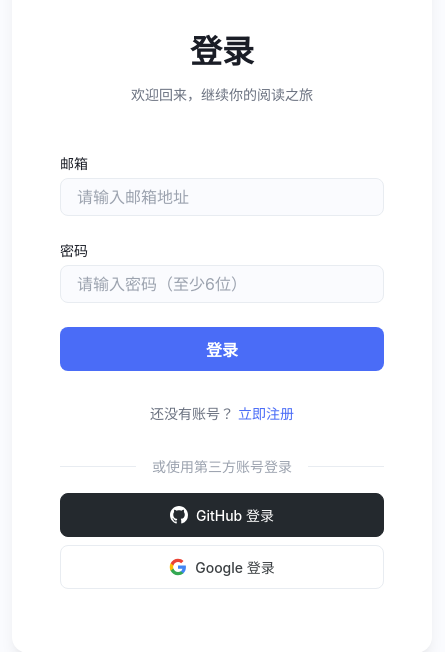
Test case: LoginPage › toggles to register form
The width and height of the screenshot is (445, 652).
Click the button with class "toggle-btn" at point(266, 412), box x1=238 y1=402 x2=294 y2=422
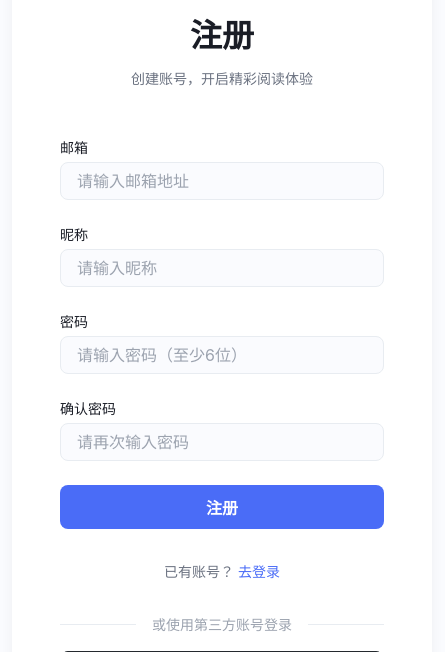
Check: the heading with class "login-title" reads "注册", box x1=190 y1=16 x2=254 y2=55
Check: the field with id "nickname" is shown, box x1=60 y1=249 x2=384 y2=287
Check: the password field with id "confirmPassword" is shown, box x1=60 y1=423 x2=384 y2=461
